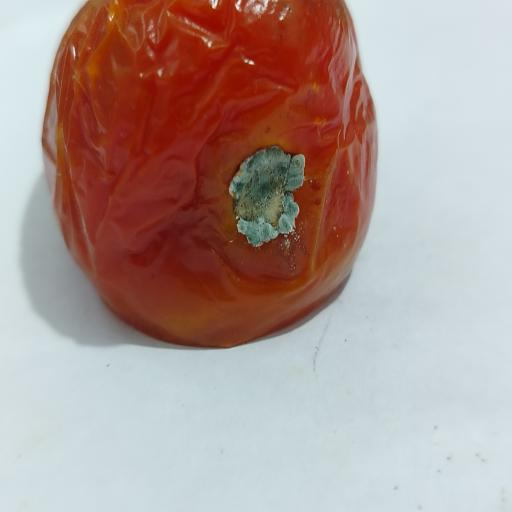spoiled: (43, 0, 377, 346)
